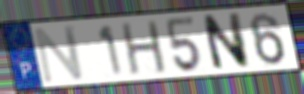1: (96, 23, 124, 78)
5: (162, 14, 204, 74)
6: (248, 11, 288, 67)
H: (119, 19, 170, 77)
N: (32, 23, 86, 85), (199, 10, 252, 73)
